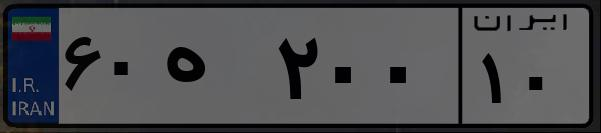0: (385, 28, 445, 110), (330, 28, 385, 110), (525, 38, 570, 115), (110, 28, 158, 98)
1: (475, 38, 525, 113)
2: (270, 28, 330, 110)
6: (57, 26, 110, 100)
ه: (158, 20, 270, 120)
